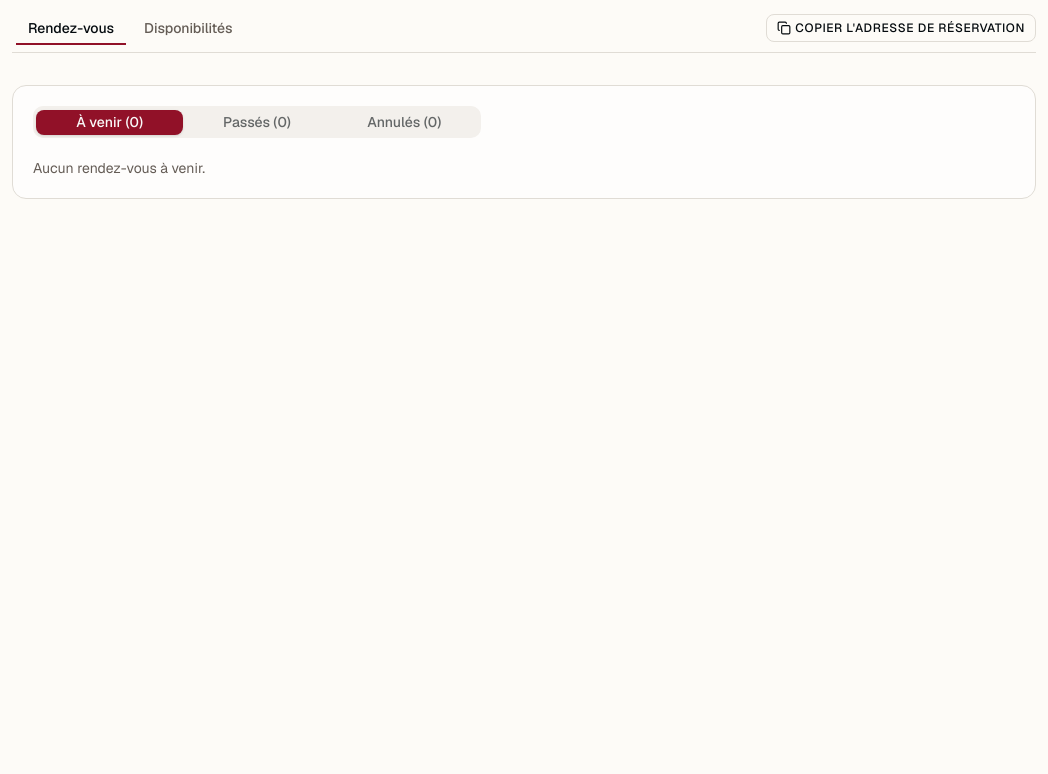
Test: RdvManager › décocher puis recocher un jour retrouve ses plages
Click the tab "Disponibilités": [188, 28] box x1=131 y1=16 x2=246 y2=40
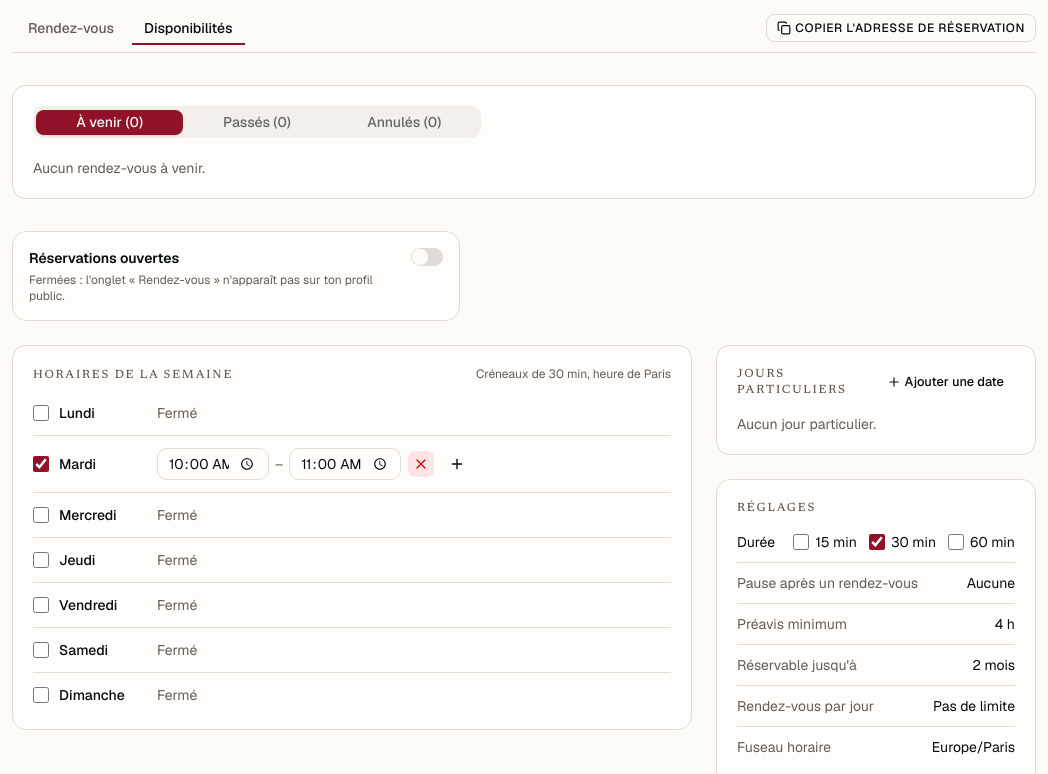
Click the checkbox labelled "Mardi": [41, 464] box x1=33 y1=456 x2=49 y2=472
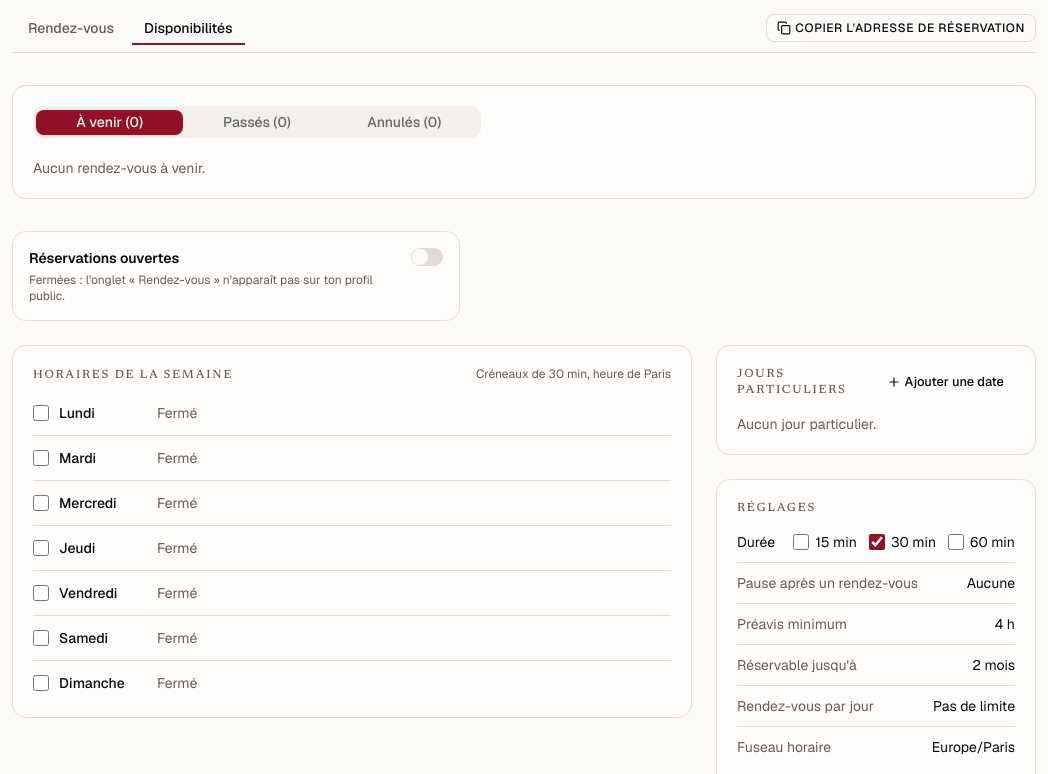
Click the checkbox labelled "Mardi": [41, 458] box x1=33 y1=450 x2=49 y2=466
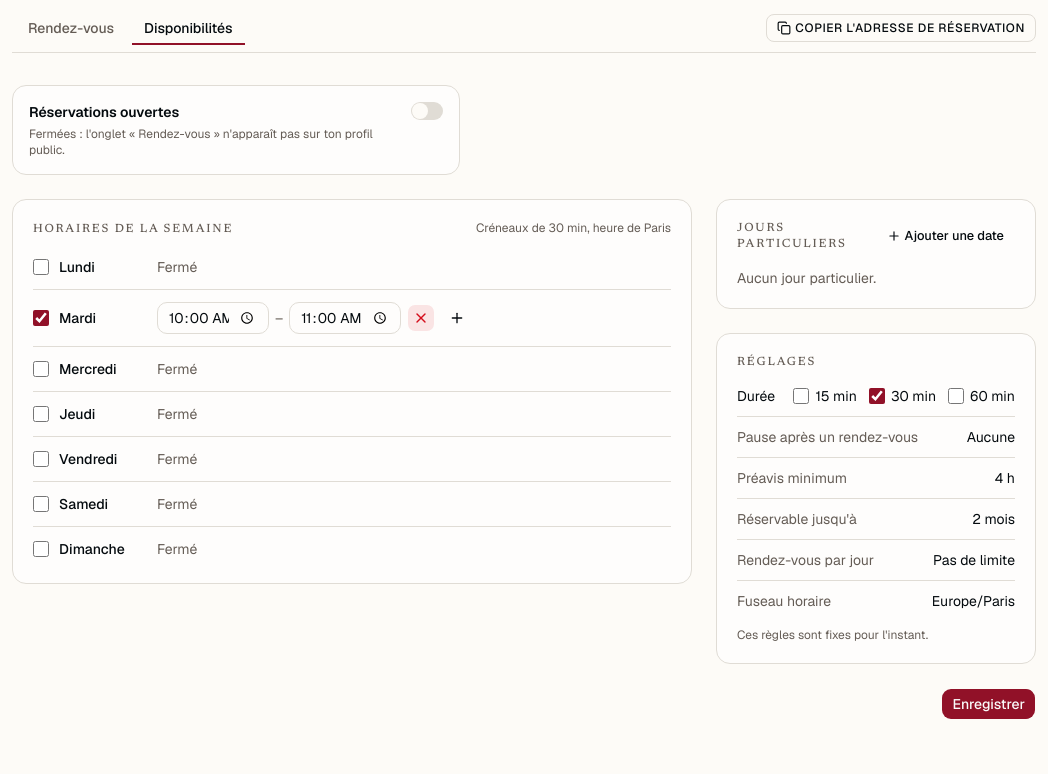
expect the time field named "Mardi : début" holds "10:00": met, box x1=157 y1=302 x2=269 y2=334
